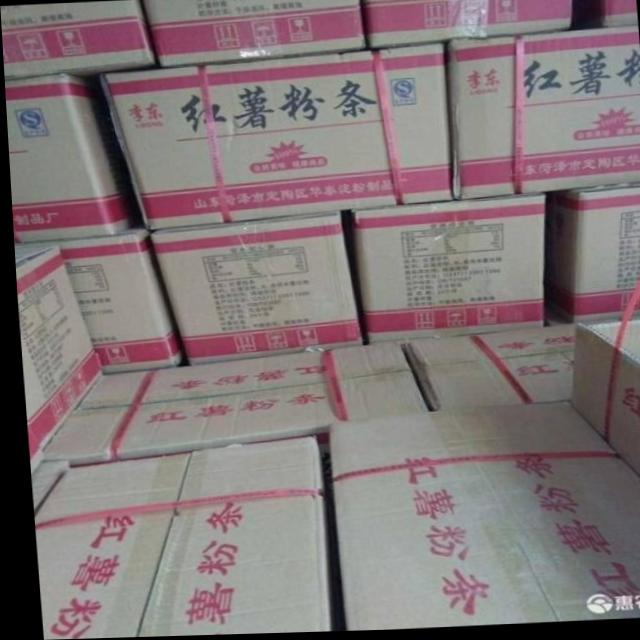box: (323, 405, 640, 632), (97, 46, 451, 231), (28, 436, 336, 640), (35, 343, 424, 492), (443, 28, 640, 203), (147, 212, 358, 366), (346, 195, 542, 345), (11, 222, 182, 374), (4, 74, 141, 243), (12, 245, 98, 450), (140, 0, 365, 68), (400, 326, 573, 413), (538, 190, 640, 326), (0, 0, 157, 82), (565, 322, 640, 487), (360, 0, 571, 50), (25, 460, 63, 516), (570, 0, 636, 32), (22, 425, 40, 475), (539, 304, 569, 329)
